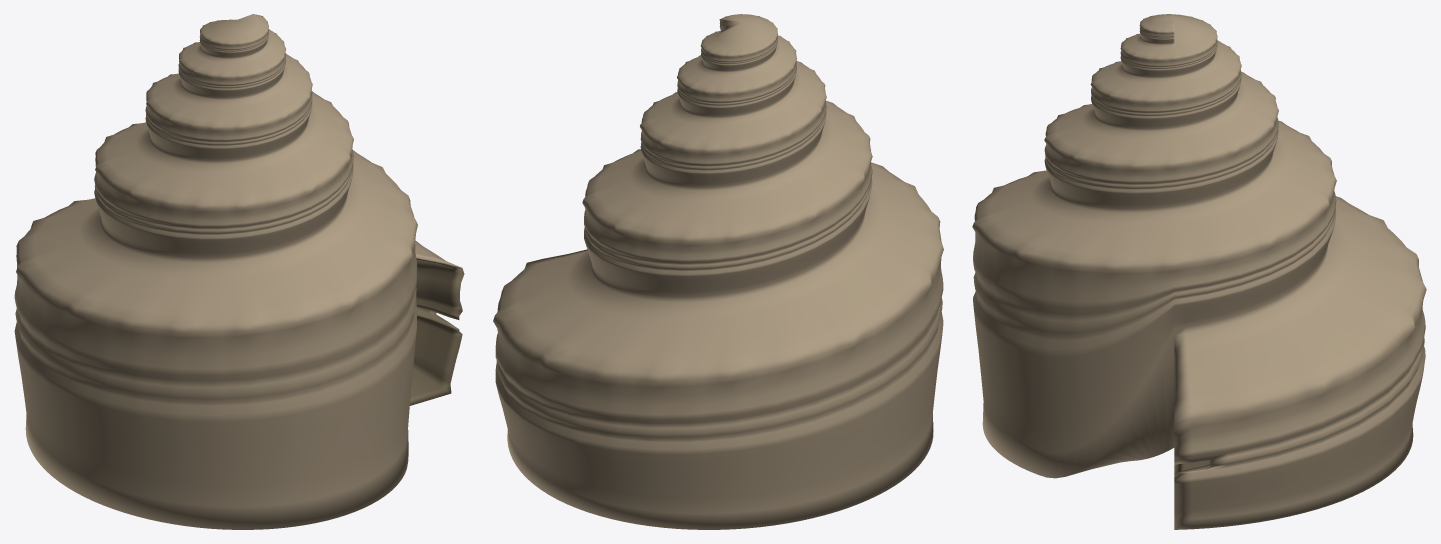
3 views of the same model, side by side, from view 1: azimuth 30°, elevation 25°; view 2: azimuth 150°, elevation 25°; view 3: azimuth 270°, elevation 25° (orthographic). The views are drawn at different scales.
Parts seen in each view (by area): view 1: shell with stepped whorls and disclosed slit; view 2: shell with stepped whorls and disclosed slit; view 3: shell with stepped whorls and disclosed slit.
Part boxes in pixels (x1,y1,x2,y2): shell with stepped whorls and disclosed slit: (14, 14, 464, 529); shell with stepped whorls and disclosed slit: (493, 14, 943, 529); shell with stepped whorls and disclosed slit: (972, 14, 1426, 529).
Size of the model in its own units: 0.0372 by 0.038 by 0.0372.
